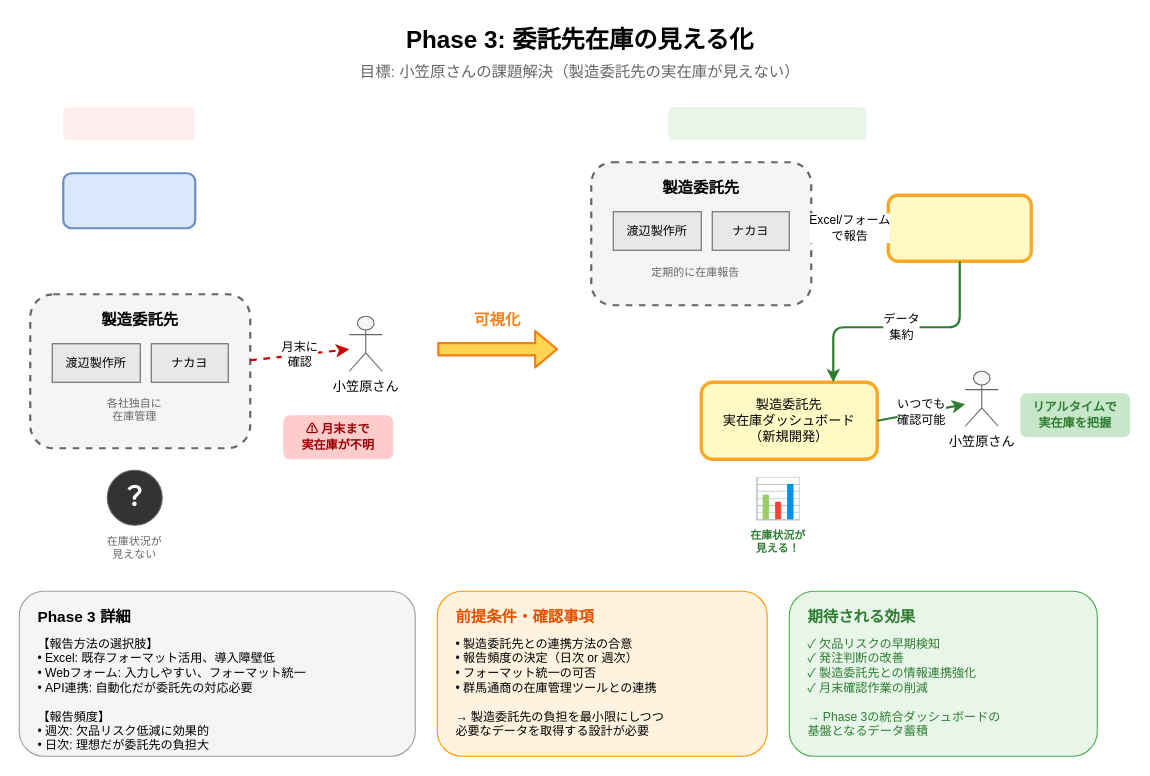
The diagram is 1150 pixels wide and 776 high, and some of its shapes have lost their labels. Each missing label, with the centre of its shape:
"After（Phase 3完了後）" goes at [767,123].
"Before（現状）" goes at [129,123].
"NTT e-Drone" goes at [129,200].
"在庫報告ツール （新規開発）" goes at [959,227].
